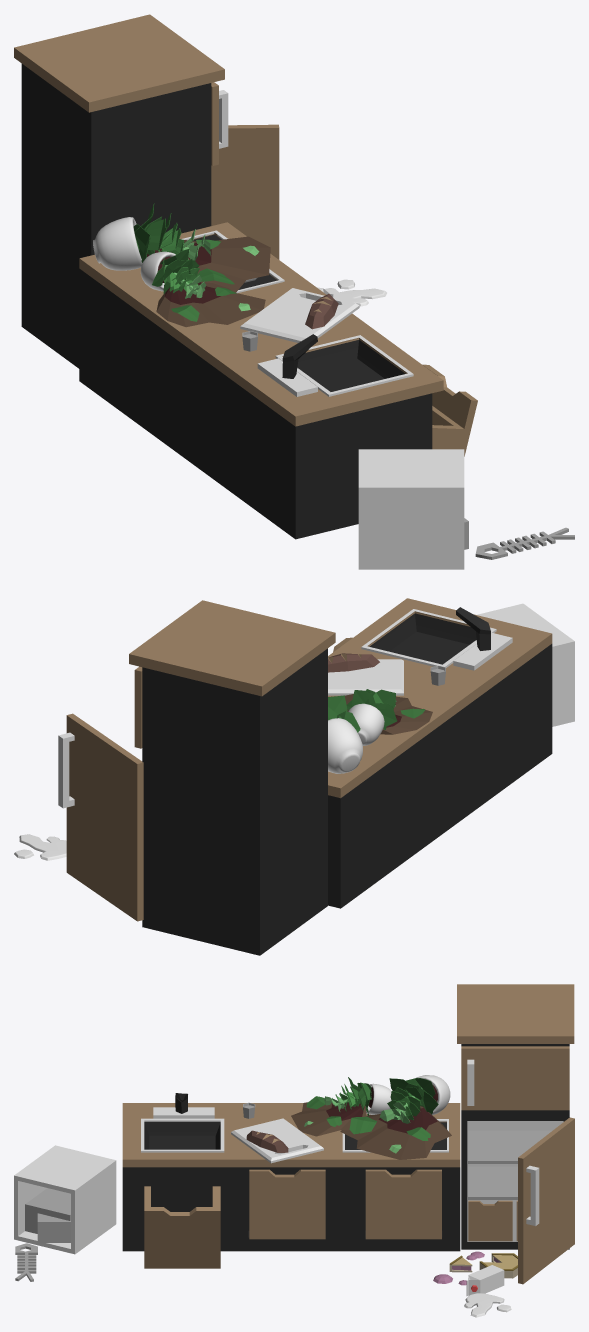
File: Destroyed_kitchen_setup.fbx
3 views of the same model, one above another, from view 1: azimuth 30°, elevation 25°; view 2: azimuth 150°, elevation 25°; view 3: azimuth 270°, elevation 25° (orthographic). The views are drawn at different scales.
Visible parts, largest first — view 1: polySurface1880, polySurface1611, polySurface1586, polySurface1615, polySurface2562, polySurface2563, polySurface1886, polySurface1881, pCube17, polySurface1614, polySurface2561, polySurface1878 (+1 smaller); view 2: polySurface1611, polySurface1880, polySurface1615, polySurface1586, polySurface2563, polySurface2562, polySurface1886, polySurface2561, polySurface1614, polySurface1878, polySurface1612, polySurface1887; view 3: polySurface1880, polySurface1611, polySurface1615, polySurface1586, polySurface1612, polySurface2562, polySurface1882, polySurface1617, polySurface1881, polySurface2563, pCube1, polySurface1886 (+10 smaller).
Boxes of the visible parts, x1=… form: polySurface1880: x1=79, y1=222, x2=443, y2=539; polySurface1611: x1=14, y1=14, x2=224, y2=368; polySurface1586: x1=358, y1=449, x2=464, y2=569; polySurface1615: x1=211, y1=124, x2=279, y2=259; polySurface2562: x1=93, y1=203, x2=270, y2=292; polySurface2563: x1=140, y1=248, x2=265, y2=327; polySurface1886: x1=240, y1=288, x2=359, y2=342; polySurface1881: x1=422, y1=364, x2=477, y2=456; pCube17: x1=475, y1=527, x2=574, y2=559; polySurface1614: x1=257, y1=358, x2=317, y2=396; polySurface2561: x1=324, y1=279, x2=386, y2=306; polySurface1878: x1=305, y1=294, x2=338, y2=329; polySurface1611: x1=129, y1=600, x2=335, y2=955; polySurface1880: x1=328, y1=598, x2=552, y2=908; polySurface1615: x1=58, y1=713, x2=143, y2=921; polySurface1586: x1=477, y1=603, x2=574, y2=726; polySurface2563: x1=344, y1=689, x2=432, y2=745; polySurface2562: x1=328, y1=695, x2=362, y2=773; polySurface1886: x1=328, y1=659, x2=403, y2=695; polySurface2561: x1=14, y1=834, x2=66, y2=860; polySurface1614: x1=453, y1=633, x2=512, y2=670; polySurface1878: x1=328, y1=653, x2=379, y2=672; polySurface1612: x1=134, y1=666, x2=142, y2=748; polySurface1887: x1=456, y1=607, x2=490, y2=650; polySurface1880: x1=122, y1=1103, x2=460, y2=1251; polySurface1611: x1=457, y1=984, x2=574, y2=1249; polySurface1615: x1=518, y1=1117, x2=574, y2=1284; polySurface1586: x1=14, y1=1145, x2=116, y2=1254; polySurface1612: x1=461, y1=1046, x2=569, y2=1110; polySurface2562: x1=340, y1=1075, x2=451, y2=1159; polySurface1882: x1=249, y1=1169, x2=325, y2=1239; polySurface1617: x1=365, y1=1169, x2=441, y2=1239; polySurface1881: x1=144, y1=1186, x2=220, y2=1268; polySurface2563: x1=291, y1=1077, x2=391, y2=1136; pCube1: x1=468, y1=1130, x2=551, y2=1163; polySurface1886: x1=231, y1=1118, x2=323, y2=1163.
Size of the model in its own units: 2.44 by 2.06 by 4.75.
